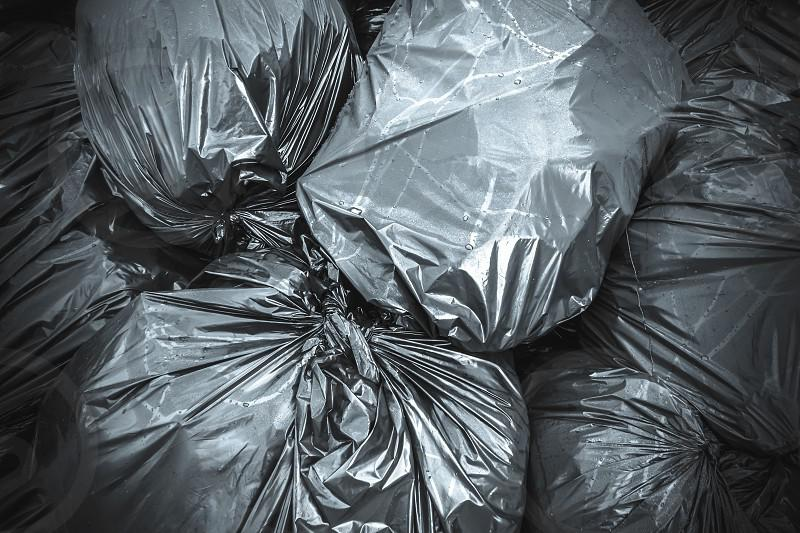Garbage: (114, 244, 521, 533), (317, 0, 655, 346), (0, 19, 218, 429), (73, 0, 344, 229), (625, 76, 800, 421), (534, 346, 800, 533)
